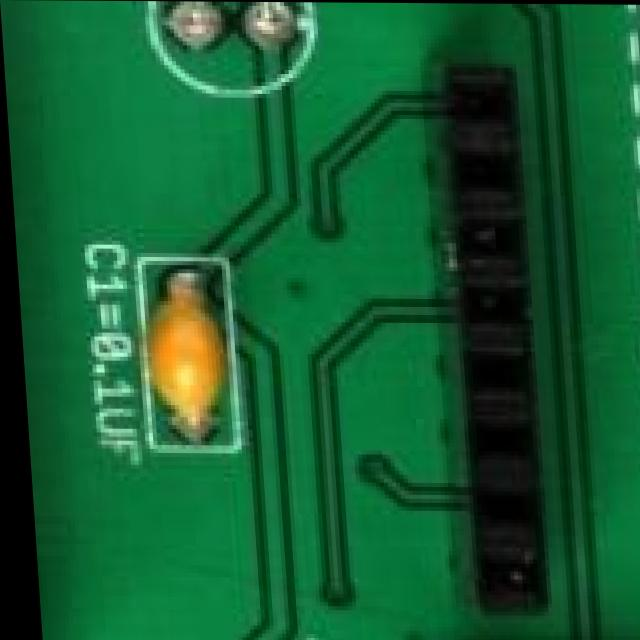capacitor: (130, 247, 231, 442), (158, 1, 309, 23)
connector: (435, 72, 542, 598)
